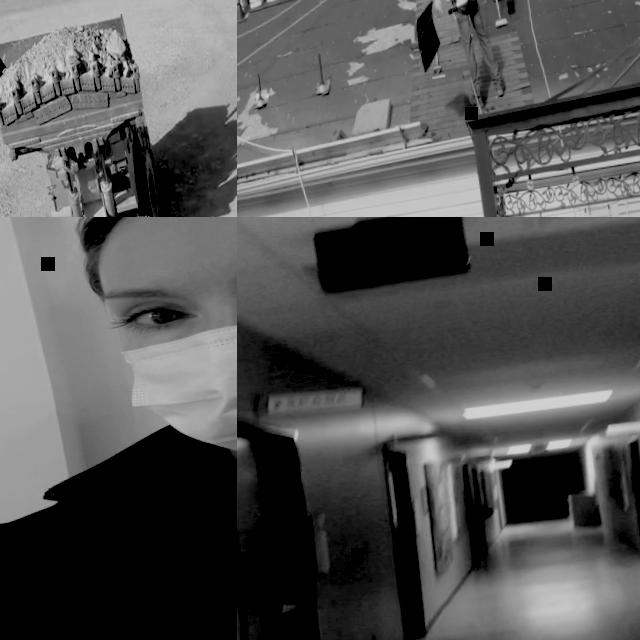machinery: (0, 5, 183, 217)
mask: (127, 300, 237, 464)
no_vest: (0, 424, 237, 640)
person: (0, 217, 237, 640), (424, 0, 507, 111)
